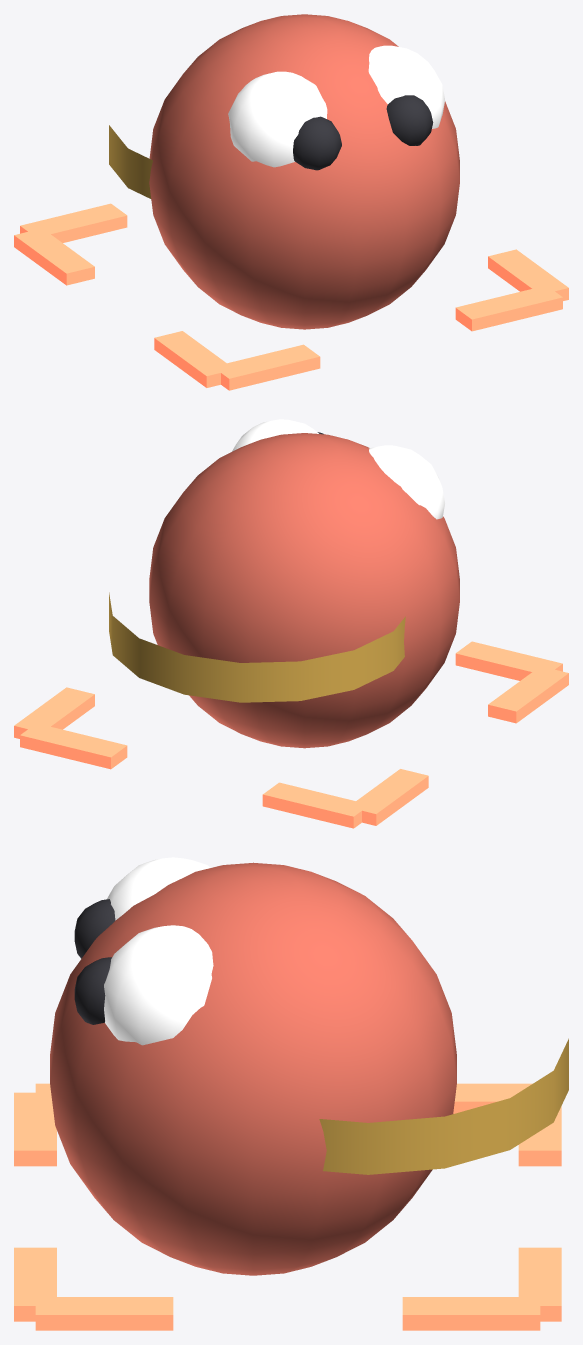
The model's file is snake_red_head.glb.
The picture shows the model from 3 angles, top to bottom: view 1: azimuth 30°, elevation 25°; view 2: azimuth 150°, elevation 25°; view 3: azimuth 270°, elevation 25°; orthographic projection. The views are drawn at different scales.
Size of the model in its own units: 0.955 by 0.72 by 0.9675.
